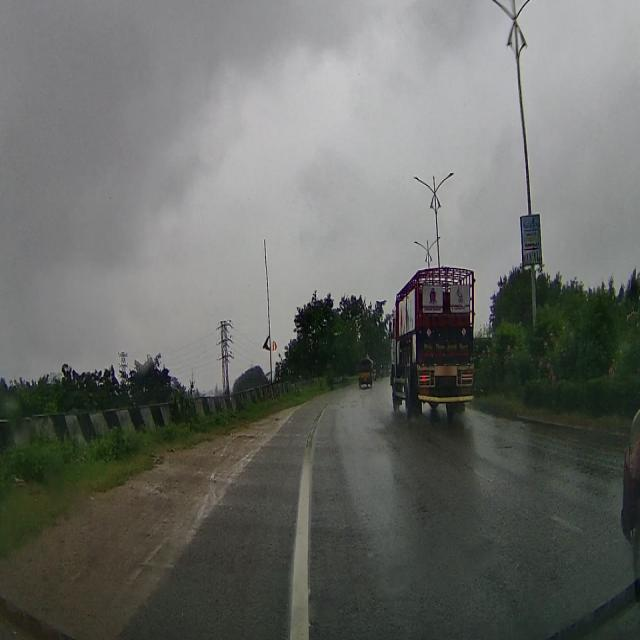truck ahead at: (387, 260, 484, 420)
